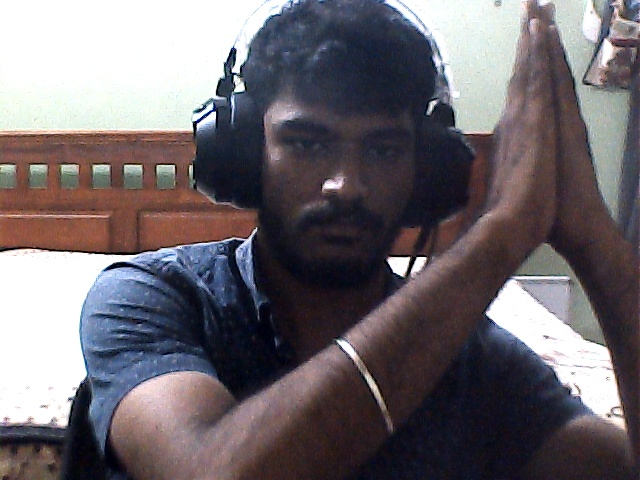Sign: (483, 5, 616, 250)
